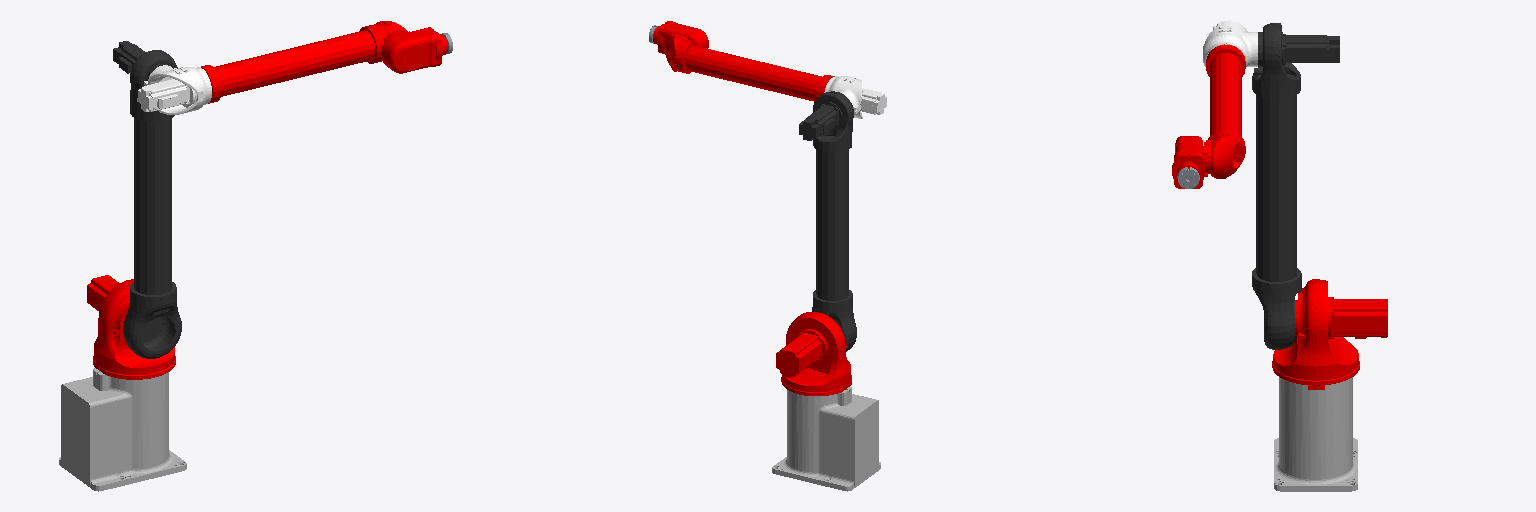
The robot description file, URDF, robot "URDFV3":
<robot
  name="URDFV3">
  <link
    name="base_link">
    <inertial>
      <origin
        xyz="-0.0404819765185818 9.86709441930245E-09 0.135810871548215"
        rpy="0 0 0" />
      <mass
        value="10.9537085052775" />
      <inertia
        ixx="0.0938610030433479"
        ixy="2.79631623947139E-06"
        ixz="-0.00583069999280698"
        iyy="0.127471342059364"
        iyz="-4.43327832390823E-09"
        izz="0.0805342467666002" />
    </inertial>
    <visual>
      <origin
        xyz="0 0 0"
        rpy="0 0 0" />
      <geometry>
        <mesh
          filename="package://URDFV3/meshes/base_link.STL" />
      </geometry>
      <material
        name="">
        <color
          rgba="0.752941176470588 0.752941176470588 0.752941176470588 1" />
      </material>
    </visual>
    <collision>
      <origin
        xyz="0 0 0"
        rpy="0 0 0" />
      <geometry>
        <mesh
          filename="package://URDFV3/meshes/base_link.STL" />
      </geometry>
    </collision>
  </link>
  <link
    name="link1">
    <inertial>
      <origin
        xyz="0.000232368620479607 0.0163304681479464 -0.0429690602674994"
        rpy="0 0 0" />
      <mass
        value="4.59276430200574" />
      <inertia
        ixx="0.0311200335571171"
        ixy="1.75303778204149E-05"
        ixz="9.30496066133545E-05"
        iyy="0.027062961570959"
        iyz="-0.00331383168985909"
        izz="0.0249050231987757" />
    </inertial>
    <visual>
      <origin
        xyz="0 0 0"
        rpy="0 0 0" />
      <geometry>
        <mesh
          filename="package://URDFV3/meshes/link1.STL" />
      </geometry>
      <material
        name="">
        <color
          rgba="1 0 0 1" />
      </material>
    </visual>
    <collision>
      <origin
        xyz="0 0 0"
        rpy="0 0 0" />
      <geometry>
        <mesh
          filename="package://URDFV3/meshes/link1.STL" />
      </geometry>
    </collision>
  </link>
  <joint
    name="j1"
    type="revolute">
    <origin
      xyz="0 0 0.4205"
      rpy="0 0 0" />
    <parent
      link="base_link" />
    <child
      link="link1" />
    <axis
      xyz="0 0 1" />
  </joint>
  <link
    name="link2">
    <inertial>
      <origin
        xyz="-0.000111323508427222 -0.394642177725349 -0.0909848584083998"
        rpy="0 0 0" />
      <mass
        value="6.56009347031242" />
      <inertia
        ixx="0.381831864672227"
        ixy="-0.000223190708863865"
        ixz="5.12287412734383E-05"
        iyy="0.0131883649257066"
        iyz="0.00653976735321046"
        izz="0.379772548665346" />
    </inertial>
    <visual>
      <origin
        xyz="0 0 0"
        rpy="0 0 0" />
      <geometry>
        <mesh
          filename="package://URDFV3/meshes/link2.STL" />
      </geometry>
      <material
        name="">
        <color
          rgba="0.250980392156863 0.250980392156863 0.250980392156863 1" />
      </material>
    </visual>
    <collision>
      <origin
        xyz="0 0 0"
        rpy="0 0 0" />
      <geometry>
        <mesh
          filename="package://URDFV3/meshes/link2.STL" />
      </geometry>
    </collision>
  </link>
  <joint
    name="j2"
    type="revolute">
    <origin
      xyz="0 0 0"
      rpy="-1.5707963267949 0 0" />
    <parent
      link="link1" />
    <child
      link="link2" />
    <axis
      xyz="0 0 -1" />
  </joint>
  <link
    name="link3">
    <inertial>
      <origin
        xyz="-0.00353726408860074 4.76623273837351E-05 -0.115064858556159"
        rpy="0 0 0" />
      <mass
        value="1.11115013220264" />
      <inertia
        ixx="0.00181207507133954"
        ixy="8.15897684400936E-07"
        ixz="-8.10607375587923E-05"
        iyy="0.00341914497808482"
        iyz="2.61386021556328E-08"
        izz="0.0030405654601453" />
    </inertial>
    <visual>
      <origin
        xyz="0 0 0"
        rpy="0 0 0" />
      <geometry>
        <mesh
          filename="package://URDFV3/meshes/link3.STL" />
      </geometry>
      <material
        name="">
        <color
          rgba="1 1 1 1" />
      </material>
    </visual>
    <collision>
      <origin
        xyz="0 0 0"
        rpy="0 0 0" />
      <geometry>
        <mesh
          filename="package://URDFV3/meshes/link3.STL" />
      </geometry>
    </collision>
  </link>
  <joint
    name="j3"
    type="revolute">
    <origin
      xyz="0 -0.725999999972 -0.0965"
      rpy="0 5.66440318679191E-17 3.14159265358979" />
    <parent
      link="link2" />
    <child
      link="link3" />
    <axis
      xyz="0 0 -1" />
  </joint>
  <link
    name="link4">
    <inertial>
      <origin
        xyz="0.00233159545283335 4.62710434190328E-07 0.374965317889783"
        rpy="0 0 0" />
      <mass
        value="3.18597659613043" />
      <inertia
        ixx="0.10055621743637"
        ixy="-8.94800167214255E-09"
        ixz="-0.00192678399062489"
        iyy="0.100584424936482"
        iyz="9.85974868685574E-07"
        izz="0.00297677729718624" />
    </inertial>
    <visual>
      <origin
        xyz="0 0 0"
        rpy="0 0 0" />
      <geometry>
        <mesh
          filename="package://URDFV3/meshes/link4.STL" />
      </geometry>
      <material
        name="">
        <color
          rgba="1 0 0 1" />
      </material>
    </visual>
    <collision>
      <origin
        xyz="0 0 0"
        rpy="0 0 0" />
      <geometry>
        <mesh
          filename="package://URDFV3/meshes/link4.STL" />
      </geometry>
    </collision>
  </link>
  <joint
    name="j4"
    type="revolute">
    <origin
      xyz="0 0 -0.124499992855"
      rpy="3.14159265358979 1.5707963267949 0" />
    <parent
      link="link3" />
    <child
      link="link4" />
    <axis
      xyz="0 0 1" />
  </joint>
  <link
    name="link5">
    <inertial>
      <origin
        xyz="-1.34240621818549E-05 -0.00106643711491694 0.0215335991467245"
        rpy="0 0 0" />
      <mass
        value="0.86840407124939" />
      <inertia
        ixx="0.00196991648065678"
        ixy="1.57021217871851E-08"
        ixz="6.38380114395053E-07"
        iyy="0.00215689936272496"
        iyz="-1.86461968064827E-05"
        izz="0.000809062204367195" />
    </inertial>
    <visual>
      <origin
        xyz="0 0 0"
        rpy="0 0 0" />
      <geometry>
        <mesh
          filename="package://URDFV3/meshes/link5.STL" />
      </geometry>
      <material
        name="">
        <color
          rgba="1 0 0 1" />
      </material>
    </visual>
    <collision>
      <origin
        xyz="0 0 0"
        rpy="0 0 0" />
      <geometry>
        <mesh
          filename="package://URDFV3/meshes/link5.STL" />
      </geometry>
    </collision>
  </link>
  <joint
    name="j5"
    type="revolute">
    <origin
      xyz="0.091 0 0.6305"
      rpy="0 1.3773E-08 -1.5708" />
    <parent
      link="link4" />
    <child
      link="link5" />
    <axis
      xyz="0 1 0" />
    <limit
      effort="0"
      velocity="0" />
  </joint>
  <link
    name="link6">
    <inertial>
      <origin
        xyz="-0.000122455677268096 -5.15143483426073E-14 0.115764948555663"
        rpy="0 0 0" />
      <mass
        value="0.027076917682369" />
      <inertia
        ixx="5.53744893138591E-06"
        ixy="1.53055063769328E-17"
        ixz="-6.22111446583025E-09"
        iyy="5.33723234026597E-06"
        iyz="3.88316153614824E-18"
        izz="1.01791524142717E-05" />
    </inertial>
    <visual>
      <origin
        xyz="0 0 0"
        rpy="0 0 0" />
      <geometry>
        <mesh
          filename="package://URDFV3/meshes/link6.STL" />
      </geometry>
      <material
        name="">
        <color
          rgba="0.615686274509804 0.643137254901961 0.674509803921569 1" />
      </material>
    </visual>
    <collision>
      <origin
        xyz="0 0 0"
        rpy="0 0 0" />
      <geometry>
        <mesh
          filename="package://URDFV3/meshes/link6.STL" />
      </geometry>
    </collision>
  </link>
  <joint
    name="j6"
    type="revolute">
    <origin
      xyz="0 0 0"
      rpy="0 0 0" />
    <parent
      link="link5" />
    <child
      link="link6" />
    <axis
      xyz="0 0 1" />
  </joint>
</robot>

--- Facts derived from the render (not from the file) ---
The picture shows the robot from 3 angles, left to right: view 1: azimuth 30°, elevation 25°; view 2: azimuth 150°, elevation 25°; view 3: azimuth 270°, elevation 25°; orthographic projection.
Model URDFV3 with 7 links and 6 joints (6 revolute), rooted at base_link, posed all joints at 0.
Visible links, largest first — view 1: link2, base_link, link4, link1, link3, link5; view 2: link2, base_link, link1, link4, link3, link5; view 3: link2, base_link, link1, link4, link3, link5.
Boxes of the visible links, bbox=[...] form: link2: bbox=[113, 41, 181, 358]; base_link: bbox=[59, 368, 186, 491]; link4: bbox=[201, 21, 407, 103]; link1: bbox=[87, 275, 175, 379]; link3: bbox=[137, 65, 211, 114]; link5: bbox=[381, 27, 447, 73]; link2: bbox=[799, 91, 856, 351]; base_link: bbox=[772, 387, 880, 491]; link1: bbox=[776, 312, 851, 395]; link4: bbox=[664, 35, 834, 101]; link3: bbox=[824, 76, 886, 118]; link5: bbox=[653, 21, 708, 53]; link2: bbox=[1252, 23, 1339, 349]; base_link: bbox=[1274, 377, 1357, 491]; link1: bbox=[1272, 279, 1387, 389]; link4: bbox=[1203, 44, 1245, 178]; link3: bbox=[1203, 20, 1257, 66]; link5: bbox=[1172, 136, 1207, 188].
Size in the robot's own frame: 0.928 by 0.5294 by 1.21 metres.
Meshes: 7 distinct files referenced, 7 mesh visuals loaded (7 binary STL).